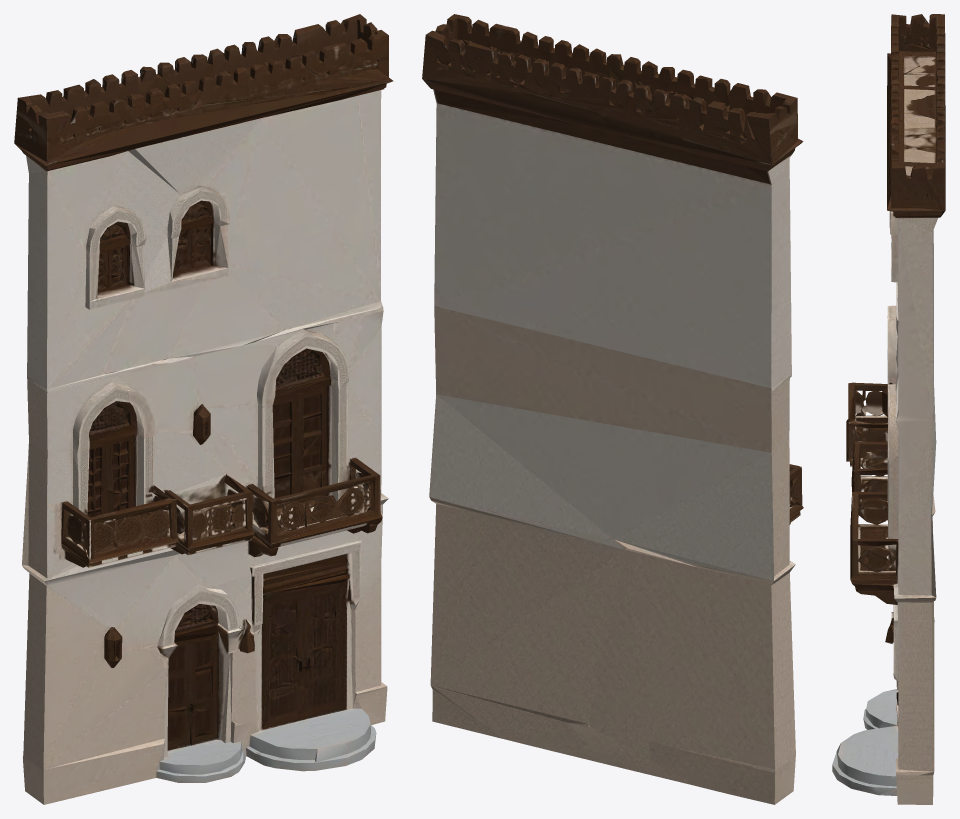
Rendered from roshan.glb.
The picture shows the model from 3 angles, left to right: view 1: azimuth 30°, elevation 25°; view 2: azimuth 150°, elevation 25°; view 3: azimuth 270°, elevation 25°; orthographic projection. The views are drawn at different scales.
Bounding box in the file's own units: 1.01 × 1.9 × 0.307.
Materials: 1 (1 with a texture image).
